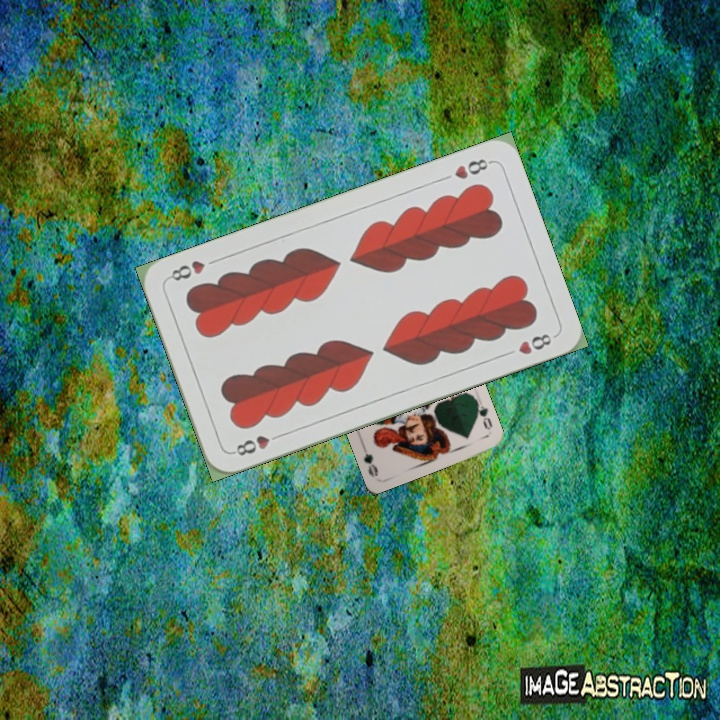GO: (471, 395, 495, 432)
H8: (228, 429, 285, 459), (450, 154, 495, 182)
